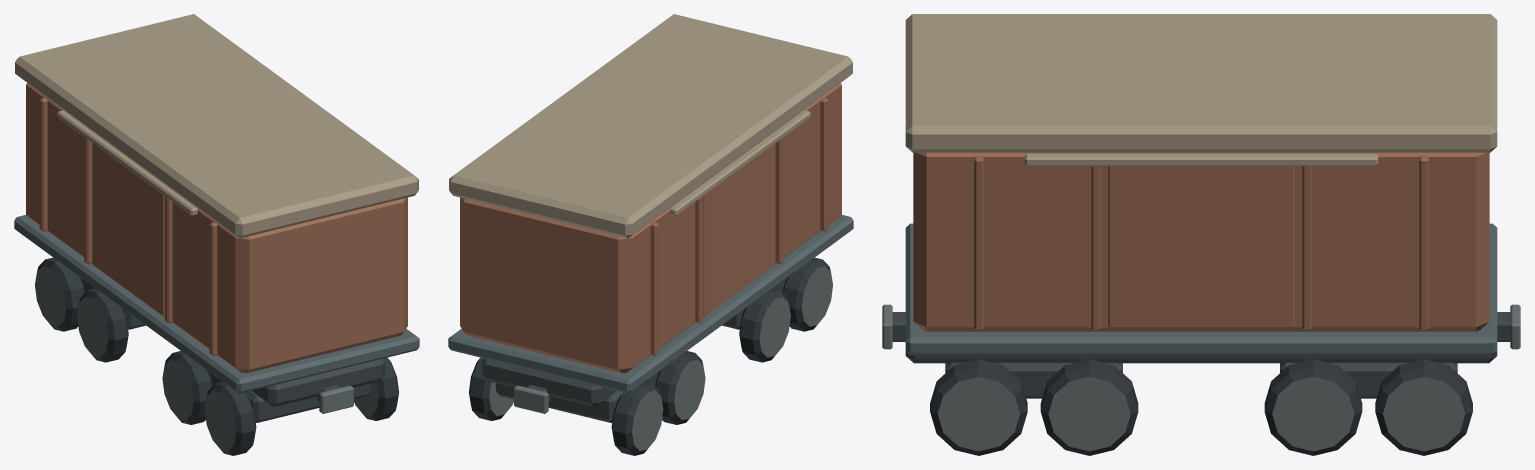
The model's file is boxcar.glb.
3 views of the same model, side by side, from view 1: azimuth 30°, elevation 25°; view 2: azimuth 150°, elevation 25°; view 3: azimuth 270°, elevation 25° (orthographic). The views are drawn at different scales.
Visible parts, largest first — view 1: Train_Boxcar_Structure, Train_Boxcar_Wheel_1_1_R, Train_Boxcar_Wheel_2_1_R, Train_Boxcar_Wheel_1_2_R, Train_Boxcar_Wheel_2_2_R, Train_Boxcar_Wheel_1_1_L; view 2: Train_Boxcar_Structure, Train_Boxcar_Wheel_2_2_R, Train_Boxcar_Wheel_1_2_R, Train_Boxcar_Wheel_2_1_R, Train_Boxcar_Wheel_1_1_R, Train_Boxcar_Wheel_2_2_L; view 3: Train_Boxcar_Structure, Train_Boxcar_Wheel_1_1_L, Train_Boxcar_Wheel_2_2_L, Train_Boxcar_Wheel_1_2_L, Train_Boxcar_Wheel_2_1_L.
Boxes of the visible parts, box(x1,y1,x2,y2) form: Train_Boxcar_Structure: box(14, 14, 419, 422); Train_Boxcar_Wheel_1_1_R: box(204, 382, 256, 455); Train_Boxcar_Wheel_2_1_R: box(77, 288, 128, 362); Train_Boxcar_Wheel_1_2_R: box(162, 351, 212, 424); Train_Boxcar_Wheel_2_2_R: box(35, 257, 85, 331); Train_Boxcar_Wheel_1_1_L: box(354, 357, 398, 420); Train_Boxcar_Structure: box(448, 14, 853, 422); Train_Boxcar_Wheel_2_2_R: box(611, 382, 663, 455); Train_Boxcar_Wheel_1_2_R: box(739, 288, 790, 362); Train_Boxcar_Wheel_2_1_R: box(655, 351, 705, 424); Train_Boxcar_Wheel_1_1_R: box(782, 257, 832, 331); Train_Boxcar_Wheel_2_2_L: box(469, 357, 513, 420); Train_Boxcar_Structure: box(882, 14, 1520, 398); Train_Boxcar_Wheel_1_1_L: box(930, 359, 1027, 455); Train_Boxcar_Wheel_2_2_L: box(1375, 359, 1472, 455); Train_Boxcar_Wheel_1_2_L: box(1040, 359, 1138, 455); Train_Boxcar_Wheel_2_1_L: box(1264, 359, 1362, 455).
Size of the model in its own units: 2.19 by 2.88 by 4.96.
